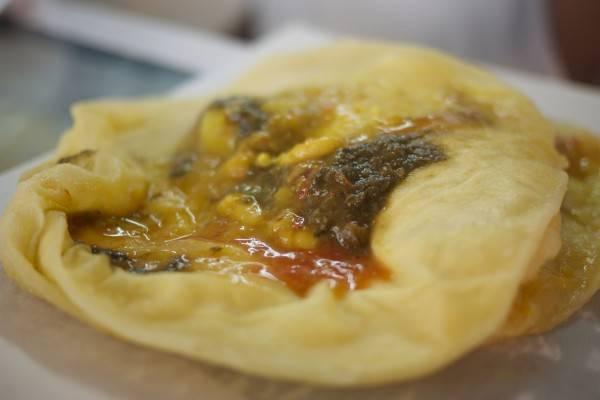Farata: (11, 48, 582, 363)
